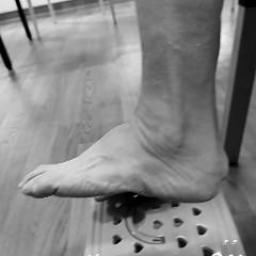Lateral View -Left Foot-: (11, 77, 240, 221)
